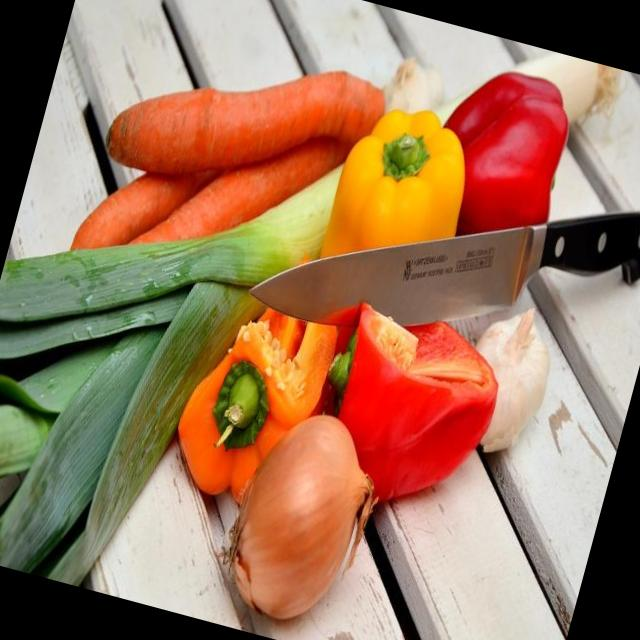Knife: (251, 212, 640, 325)
